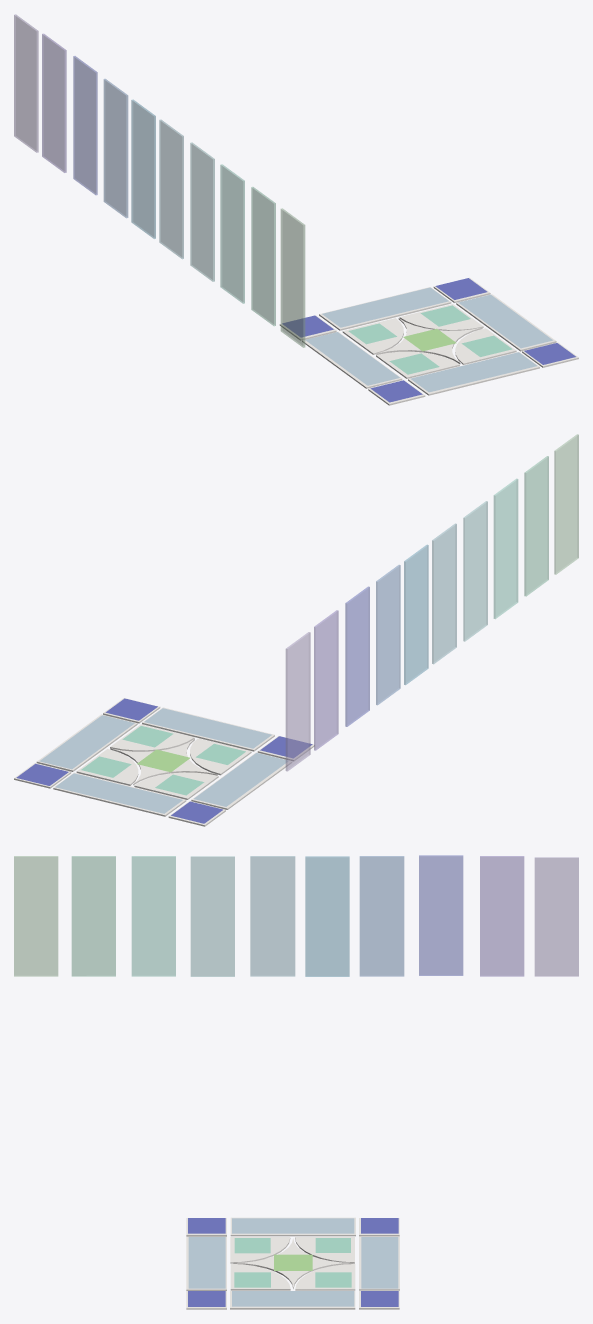
Rendered from colorPicker_v03.glb.
3 renders of one model, top to bottom at view 1: azimuth 30°, elevation 25°; view 2: azimuth 150°, elevation 25°; view 3: azimuth 270°, elevation 25°, orthographic. The views are drawn at different scales.
Parts seen in each view (by area): view 1: verreVert02A, verreBleu04A, verreBleu02A, verreVert03A, verreBleu03A, verreJaune01A, verreVert01A, verreBleu01A, verreBleu05A, verreJaune02A, couleurRectangle12, couleurRectangle13 (+20 smaller); view 2: verreVert03A, verreJaune02A, verreBleu02A, verreBleu01A, verreJaune01A, verreVert01A, verreVert02A, verreBleu04A, verreBleu05A, verreBleu03A, couleurRectangle12, couleurRectangle13 (+20 smaller); view 3: verreBleu02A, verreBleu04A, verreBleu03A, verreVert03A, verreJaune01A, verreVert01A, verreBleu05A, verreBleu01A, verreVert02A, verreJaune02A, couleurRectangle12, couleurRectangle13 (+16 smaller).
Part boxes in pixels (x1,y1,x2,y2): verreVert02A: (280,208,305,347); verreBleu04A: (103,79,128,218); verreBleu02A: (159,119,183,259); verreVert03A: (220,164,244,303); verreBleu03A: (131,99,155,238); verreJaune01A: (42,33,66,172); verreVert01A: (251,187,275,326); verreBleu01A: (190,142,214,281); verreBleu05A: (73,56,97,195); verreJaune02A: (14,14,38,152); couleurRectangle12: (410,352,536,392); couleurRectangle13: (322,287,448,327); verreVert03A: (493,478,518,618); verreJaune02A: (285,632,310,771); verreBleu02A: (432,523,456,664); verreBleu01A: (463,501,487,641); verreJaune01A: (314,610,338,750); verreVert01A: (524,456,548,596); verreVert02A: (554,434,578,574); verreBleu04A: (376,565,400,705); verreBleu05A: (345,586,369,726); verreBleu03A: (404,544,428,684); couleurRectangle12: (144,708,271,748); couleurRectangle13: (55,773,182,813); verreBleu02A: (250,856,295,976); verreBleu04A: (359,856,404,976); verreBleu03A: (305,856,349,976); verreVert03A: (131,856,175,976); verreJaune01A: (480,856,524,976); verreVert01A: (71,856,115,976); verreBleu05A: (419,855,463,975); verreBleu01A: (190,856,234,976); verreVert02A: (14,856,58,976); verreJaune02A: (534,857,578,976); couleurRectangle12: (188,1237,225,1288); couleurRectangle13: (361,1237,398,1288).
Size of the model in its own units: 0.8066 by 0.6102 by 1.11.
